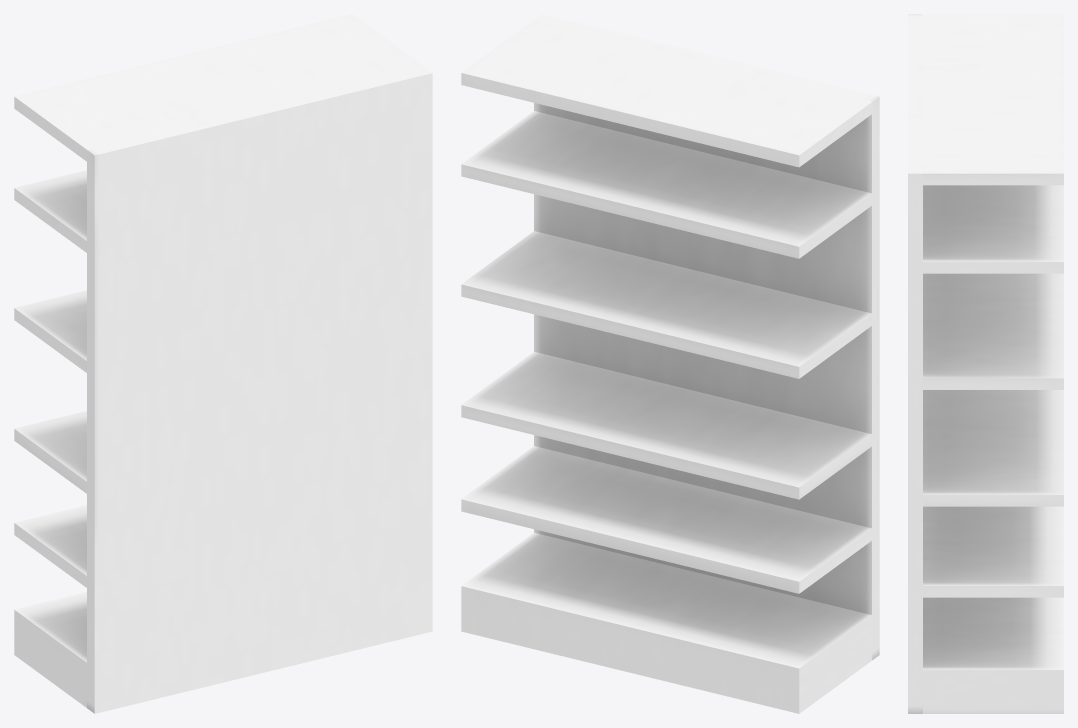
File: ShelfFive.glb
3 views of the same model, side by side, from view 1: azimuth 30°, elevation 25°; view 2: azimuth 150°, elevation 25°; view 3: azimuth 270°, elevation 25° (orthographic). The views are drawn at different scales.
Visible parts, largest first — view 1: ShelfFive; view 2: ShelfFive; view 3: ShelfFive.
Part boxes in pixels (<box>): ShelfFive: <box>14,14,432,713</box>; ShelfFive: <box>461,14,879,713</box>; ShelfFive: <box>908,14,1063,713</box>.
Size of the model in its own units: 1.27 by 2 by 0.5231.
1 material, 1 textured.
